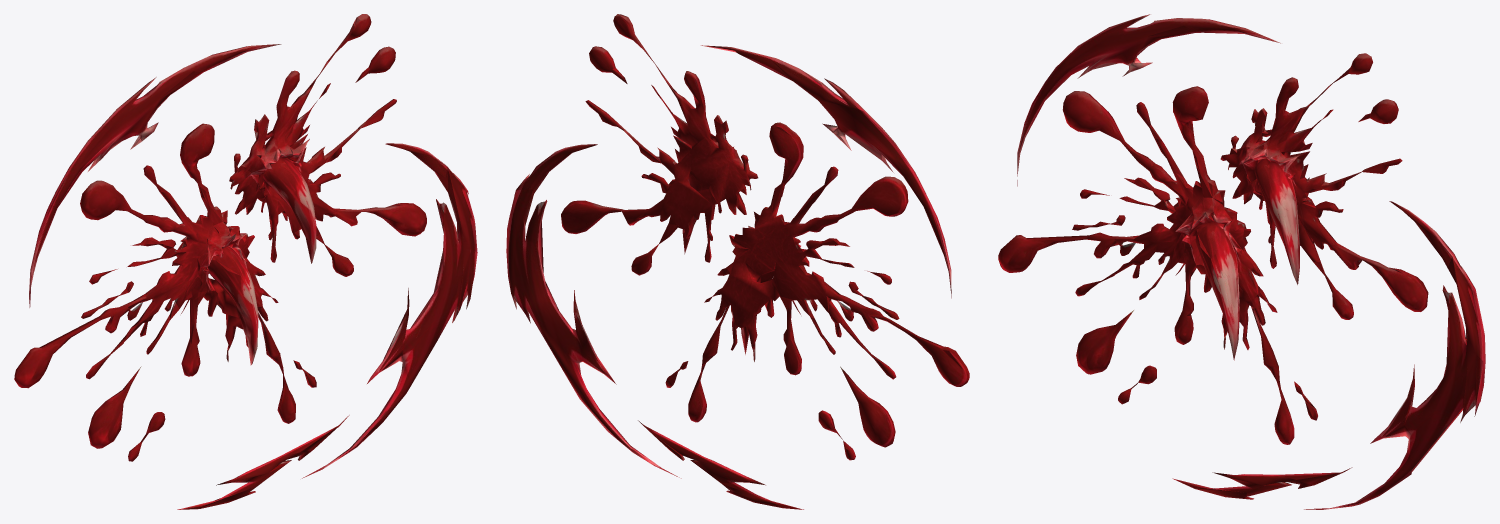
The model's file is fam-bat-bite.glb.
3 views of the same model, side by side, from view 1: azimuth 30°, elevation 25°; view 2: azimuth 150°, elevation 25°; view 3: azimuth 330°, elevation 25° (orthographic). The views are drawn at different scales.
Bounding box in the file's own units: 2 × 1.88 × 0.1276.
1 material, 1 textured.
